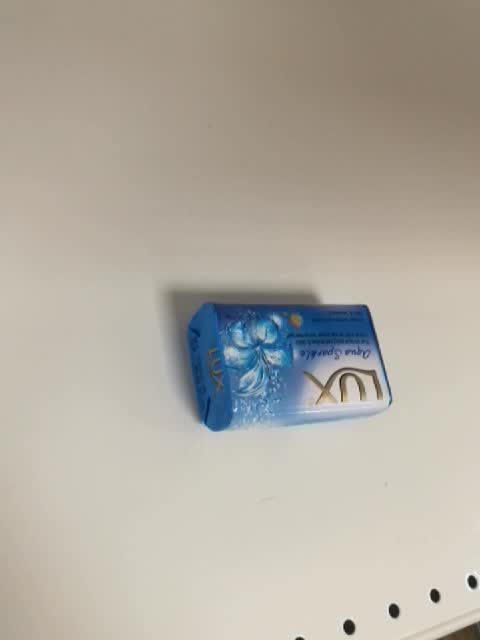soap: (184, 300, 394, 433)
